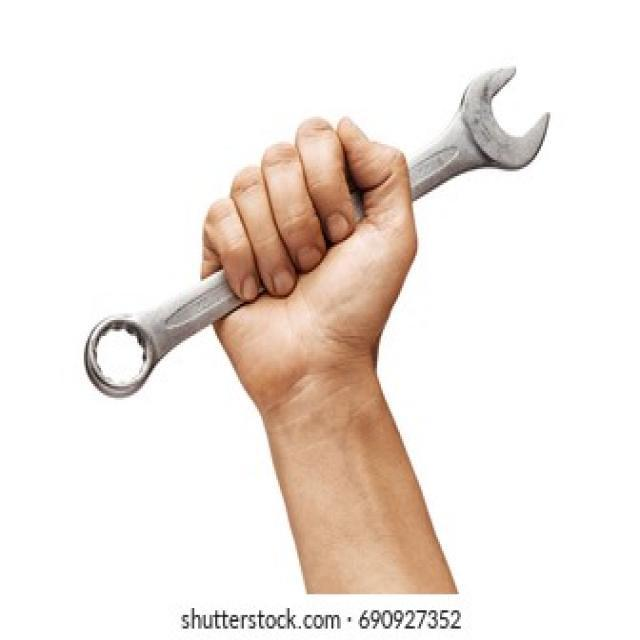wrench: (80, 62, 550, 403)
